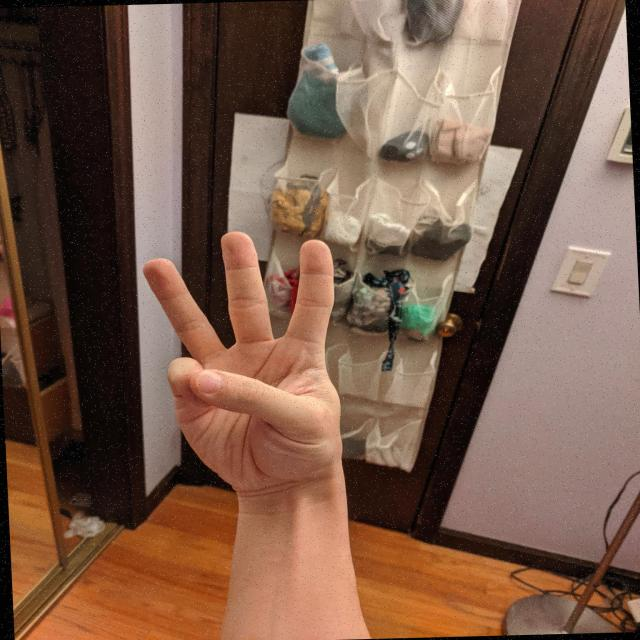W: (138, 224, 355, 495)
